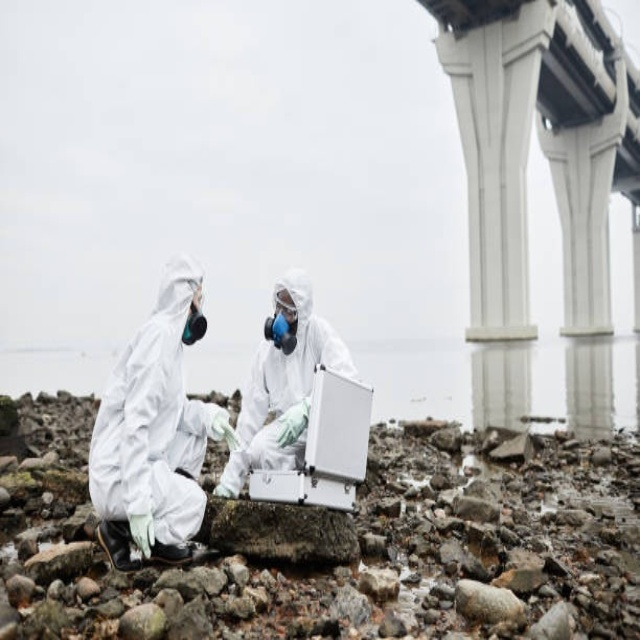Gafas: (273, 293, 301, 326), (188, 287, 205, 311)
Guantes: (275, 397, 310, 450), (127, 510, 162, 563), (207, 398, 236, 442)
Mascara: (262, 306, 298, 358), (182, 306, 209, 344)
